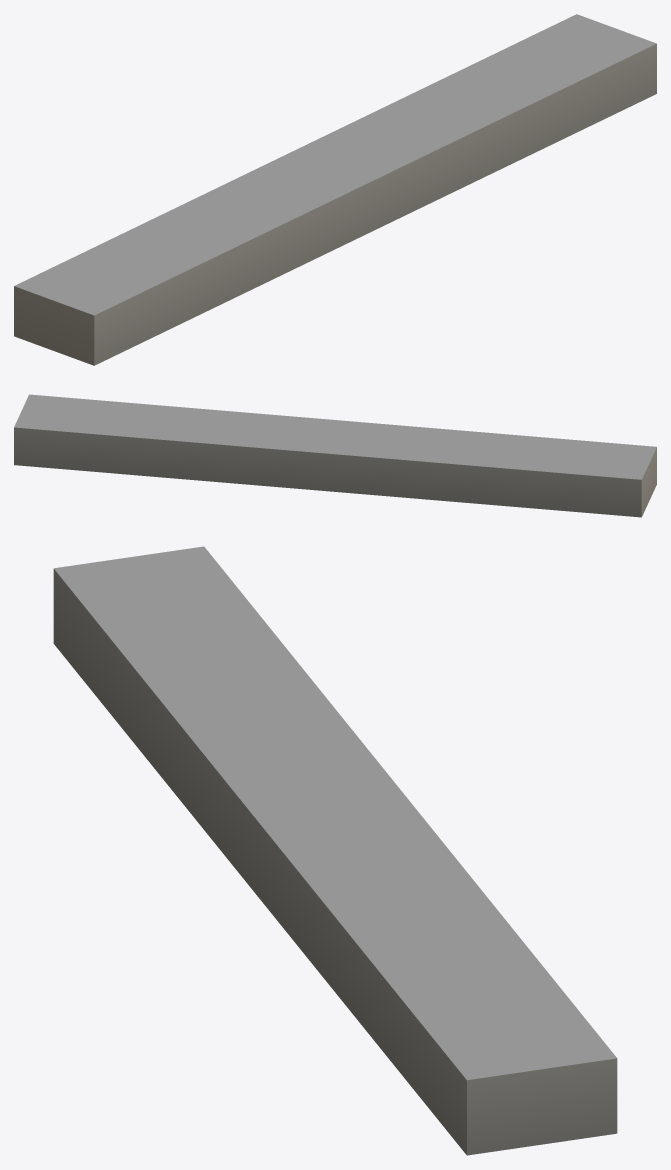
File: bld_14_5.fbx
3 views of the same model, one above another, from view 1: azimuth 30°, elevation 25°; view 2: azimuth 150°, elevation 25°; view 3: azimuth 270°, elevation 25° (orthographic). The views are drawn at different scales.
Visible parts, largest first — view 1: bld_14_5_LOD0; view 2: bld_14_5_LOD0; view 3: bld_14_5_LOD0.
Part boxes in pixels (x1,y1,x2,y2): bld_14_5_LOD0: (14,14,656,365); bld_14_5_LOD0: (14,394,656,517); bld_14_5_LOD0: (53,546,617,1155).
Size of the model in its own units: 119 by 7.84 by 53.21.
